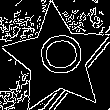O_W: (30, 35, 84, 83)
